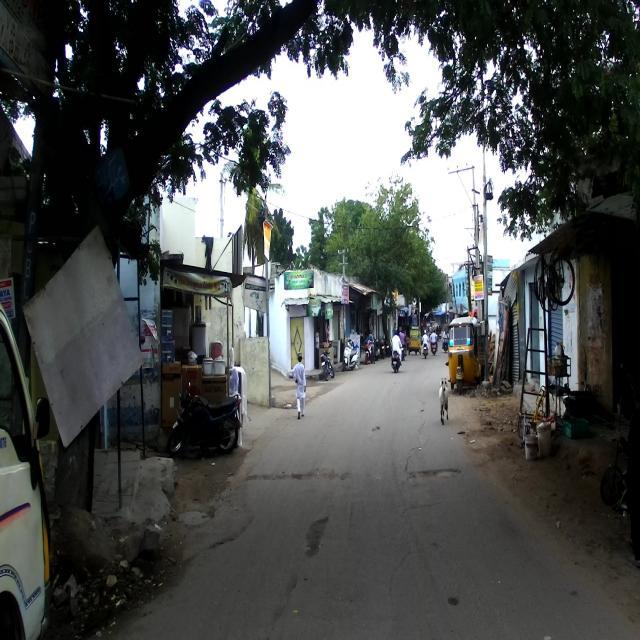autorickshaw: (446, 315, 482, 395)
motorcycle: (166, 368, 247, 463), (320, 342, 334, 380)
scooter: (341, 340, 358, 371)
